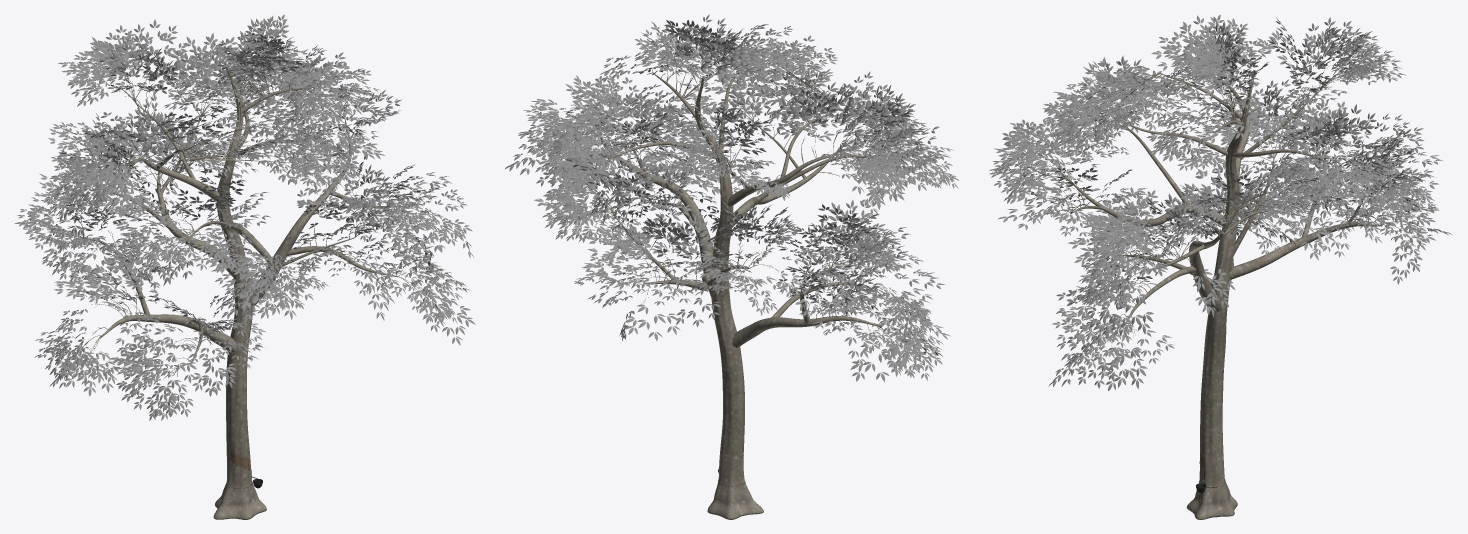
Rendered from RT_Mature_A_LOD0.glb.
3 views of the same model, side by side, from view 1: azimuth 30°, elevation 25°; view 2: azimuth 150°, elevation 25°; view 3: azimuth 270°, elevation 25° (orthographic). The views are drawn at different scales.
Parts seen in each view (by area): view 1: RT_Mature_A_LOD0_Foliage, RT_Mature_A_LOD0_Body; view 2: RT_Mature_A_LOD0_Foliage, RT_Mature_A_LOD0_Body; view 3: RT_Mature_A_LOD0_Foliage, RT_Mature_A_LOD0_Body.
Part boxes in pixels (x1,y1,x2,y2): RT_Mature_A_LOD0_Foliage: (14,14,475,420); RT_Mature_A_LOD0_Body: (53,55,430,519); RT_Mature_A_LOD0_Foliage: (505,14,959,381); RT_Mature_A_LOD0_Body: (575,47,916,519); RT_Mature_A_LOD0_Foliage: (989,14,1451,390); RT_Mature_A_LOD0_Body: (1033,65,1398,519).
Bounding box in the file's own units: 11.61 × 13.91 × 12.01.
2 materials, 1 textured.
